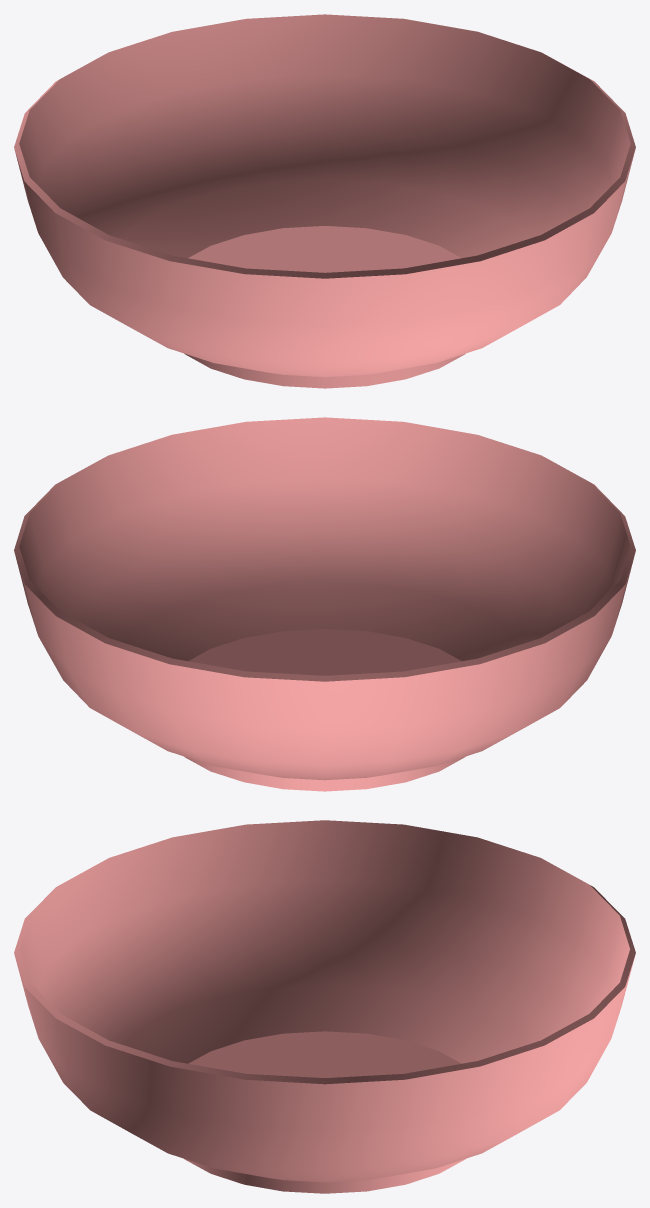
Rendered from TFYK_bowl_high_poly.FBX.
The picture shows the model from 3 angles, top to bottom: view 1: azimuth 30°, elevation 25°; view 2: azimuth 150°, elevation 25°; view 3: azimuth 270°, elevation 25°; orthographic projection.
Parts seen in each view (by area): view 1: TFYK_bowl_high_poly; view 2: TFYK_bowl_high_poly; view 3: TFYK_bowl_high_poly.
Part boxes in pixels (left/top/right/bottom): TFYK_bowl_high_poly: left=14, top=14, right=635, bottom=388; TFYK_bowl_high_poly: left=14, top=417, right=635, bottom=791; TFYK_bowl_high_poly: left=14, top=820, right=635, bottom=1193.
Size of the model in its own units: 0.1394 by 0.0436 by 0.1394.
